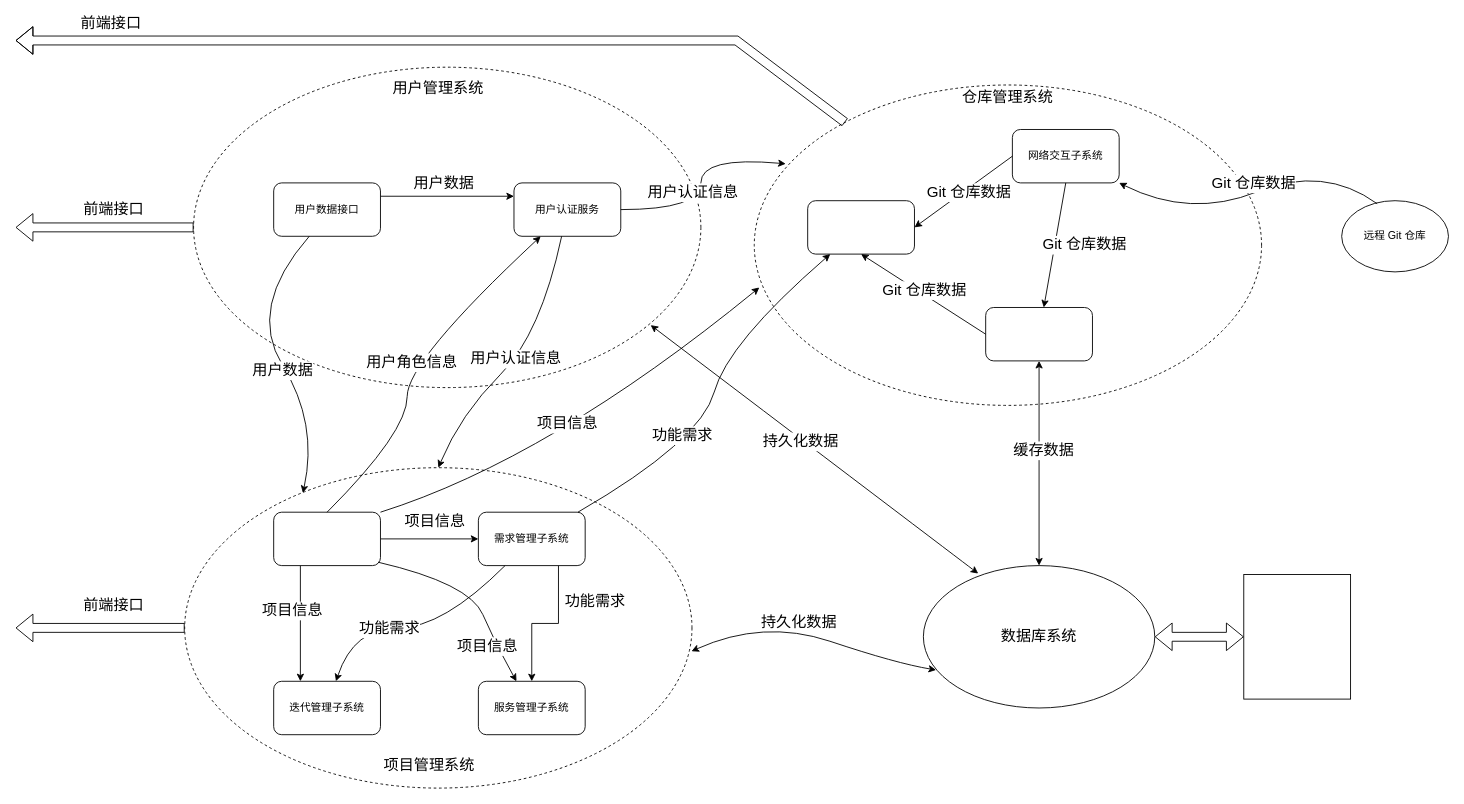
This 1464x804 diagram has some shape labels left out. Here are the shapes that lost their labels. From the top down, the centre of each, then its label:
At point (860, 227): "数据处理子系统".
At point (1038, 334): "数据缓存子系统".
At point (326, 538): "项目数据接口".
At point (1297, 636): "Postgres".
